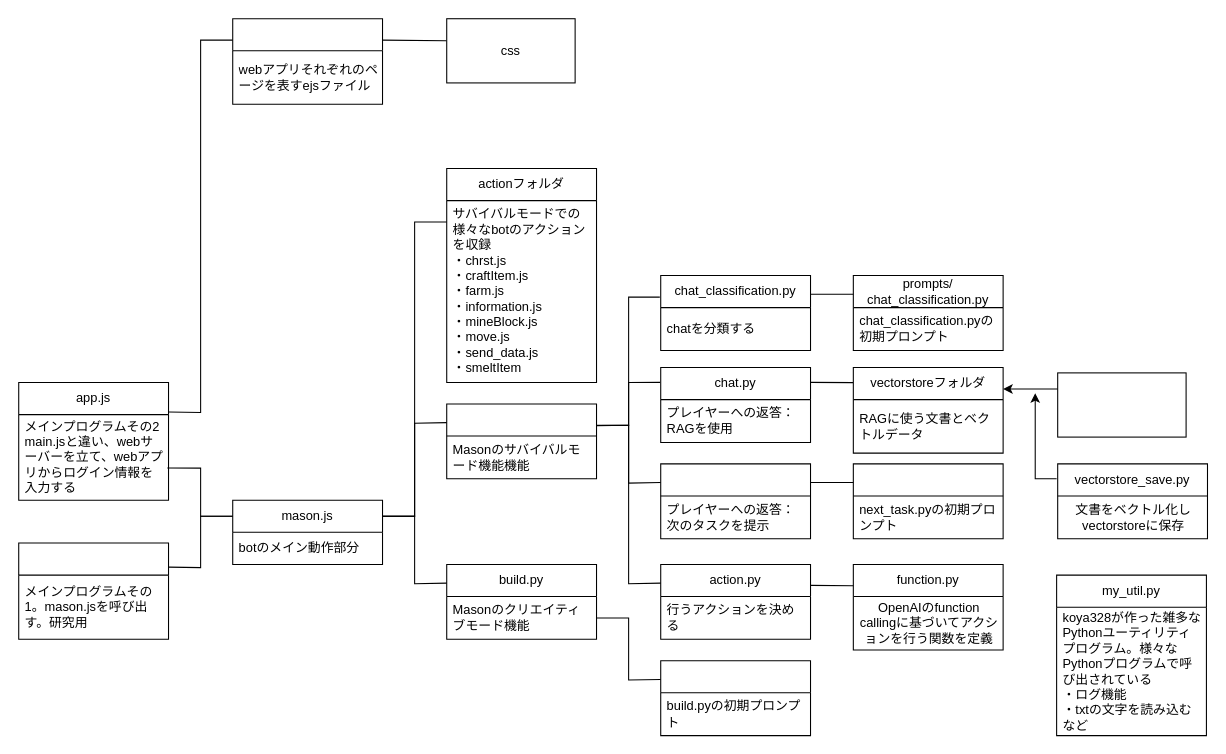
Image size: 1226x754. Some labels were removed from this diagram. The shapes that lost their labels are listed below. From the top down, each one's box as (x1, y1, x2, y2) in pixels, then its label:
(232, 18, 383, 104): viewフォルダ
(1057, 372, 1186, 437): PDFやMarkdown ファイル (contentsフォルダ)
(446, 403, 597, 479): interaction.py
(660, 463, 811, 539): next_task.py
(852, 463, 1003, 539): prompts/next_task.py
(18, 542, 169, 639): main.js
(660, 660, 811, 736): prompts/build_e.txt
